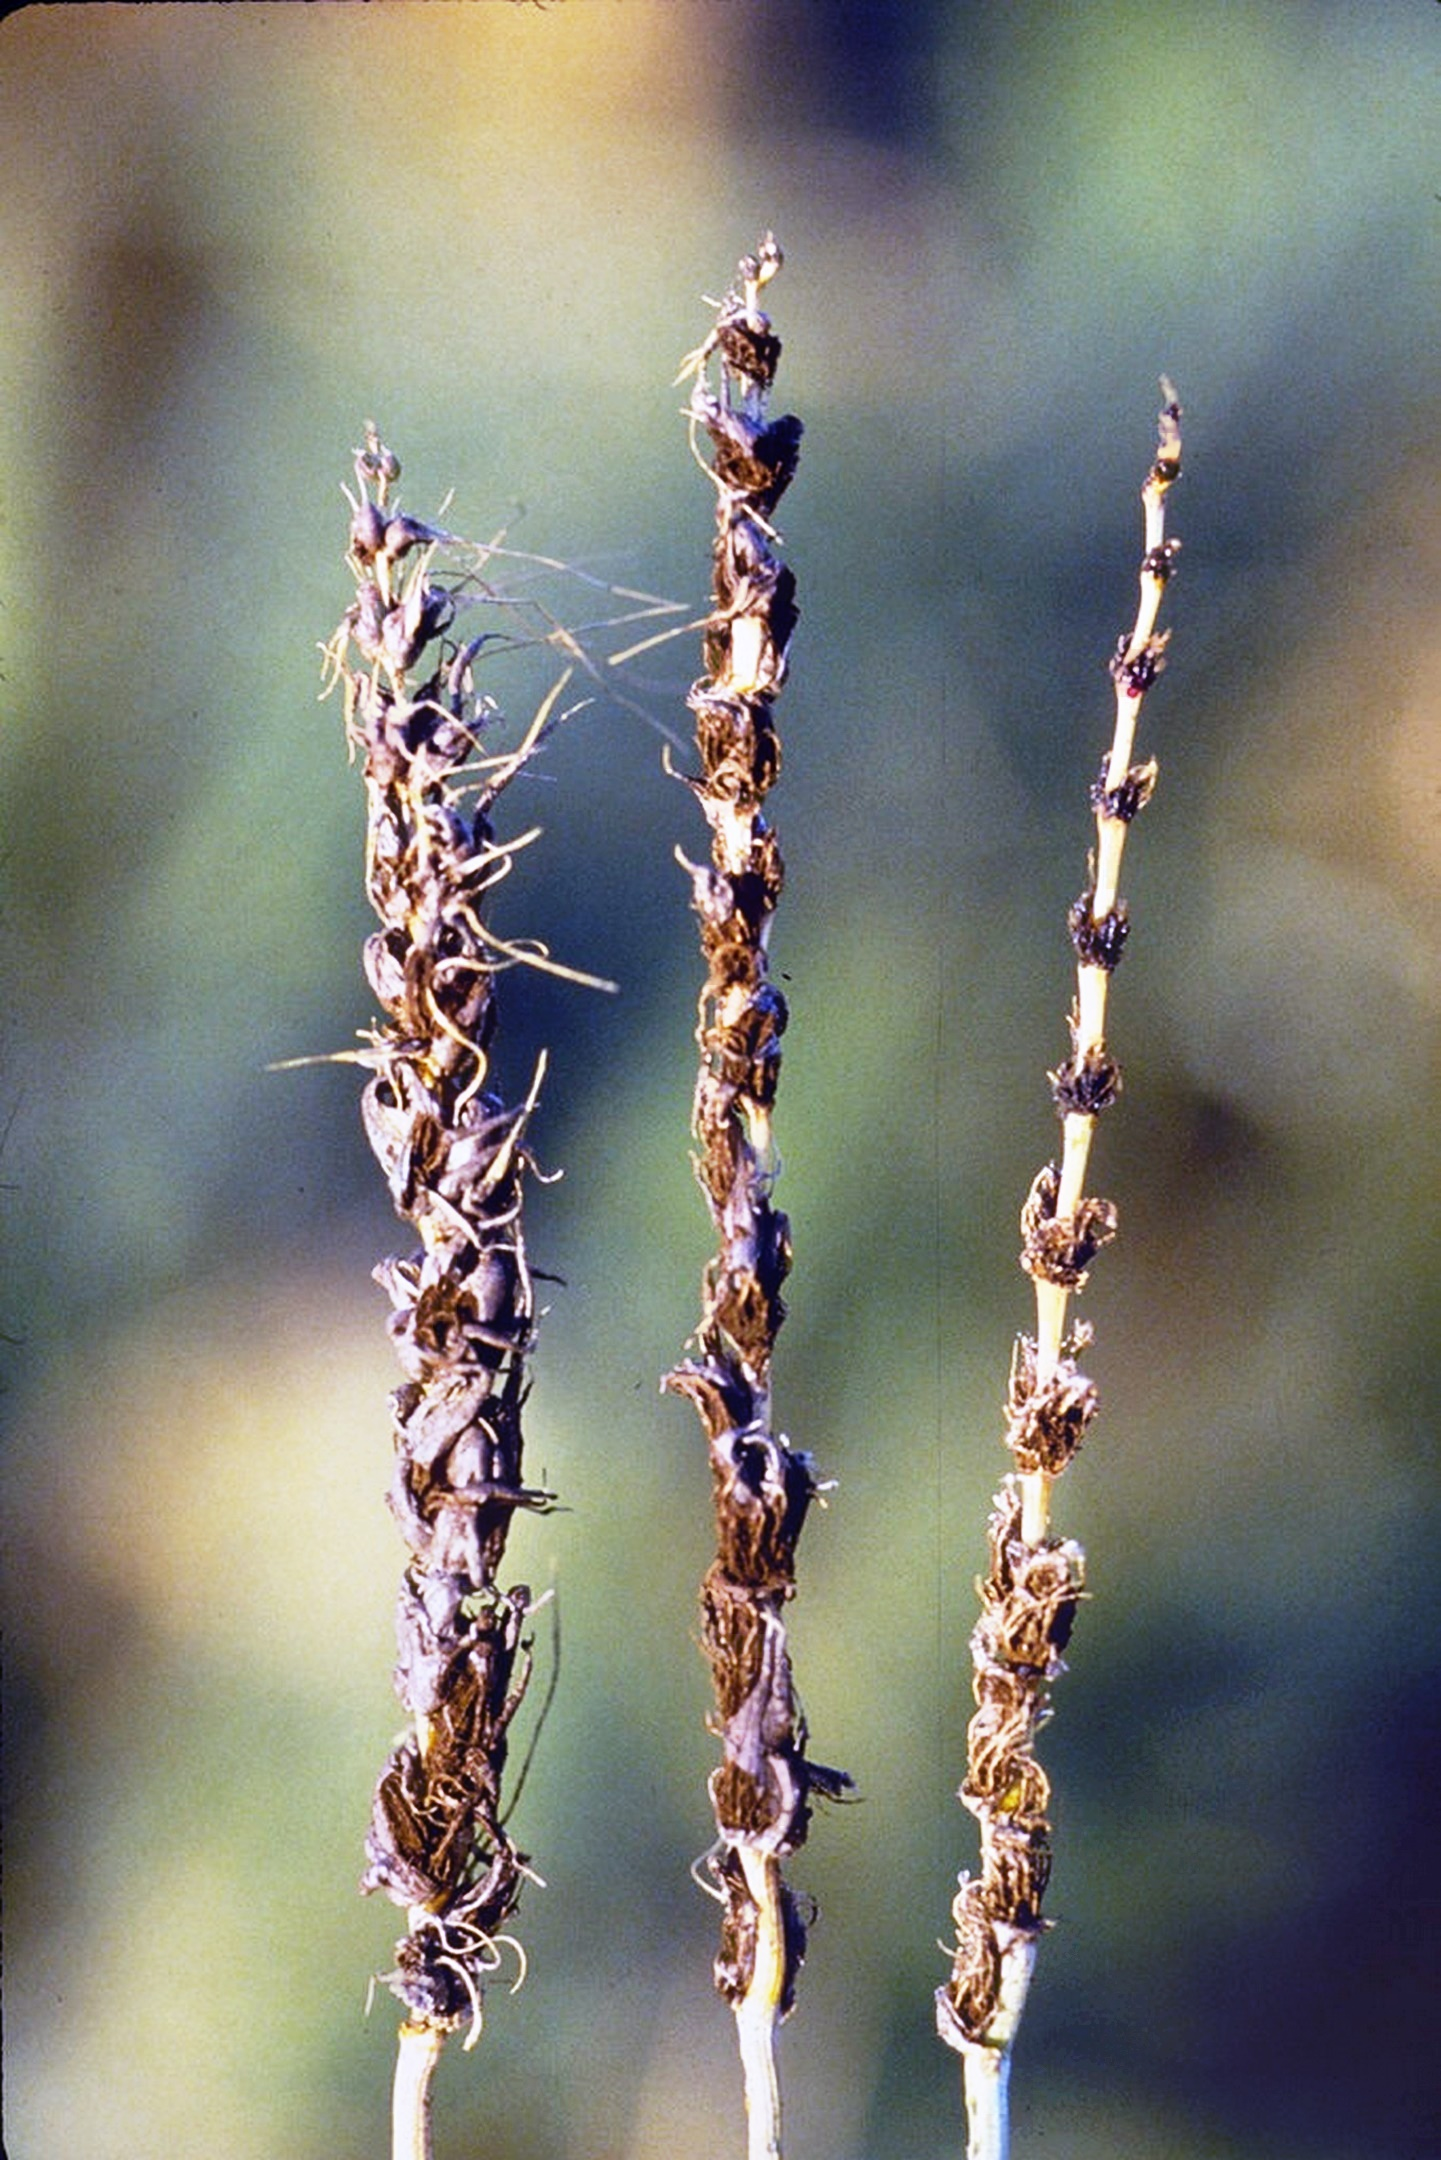Wheat Loose Smut: (634, 273, 1242, 1998), (244, 429, 606, 2006)
